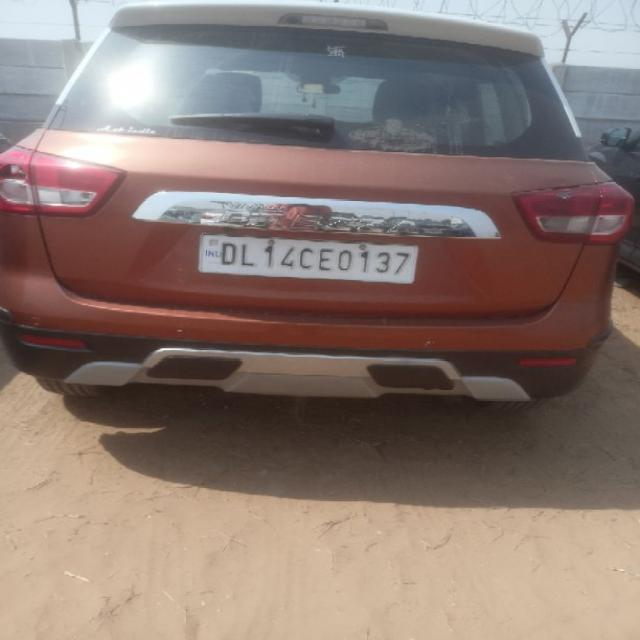license_plate: (196, 231, 420, 284)
